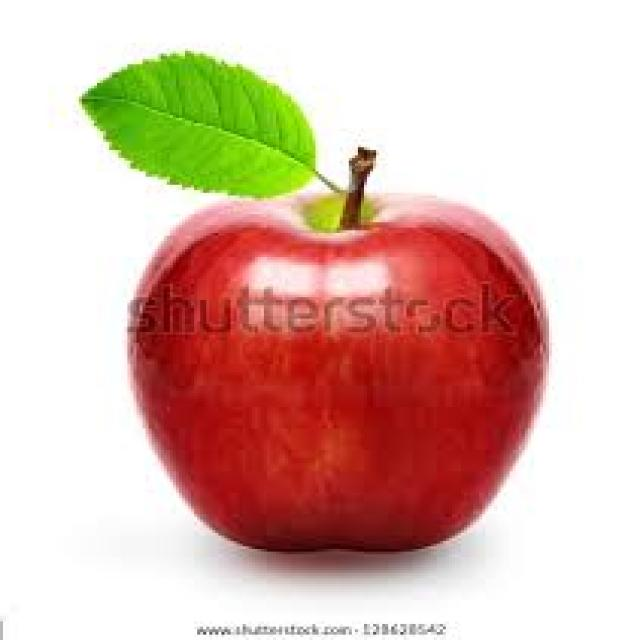apple: (119, 176, 558, 572)
